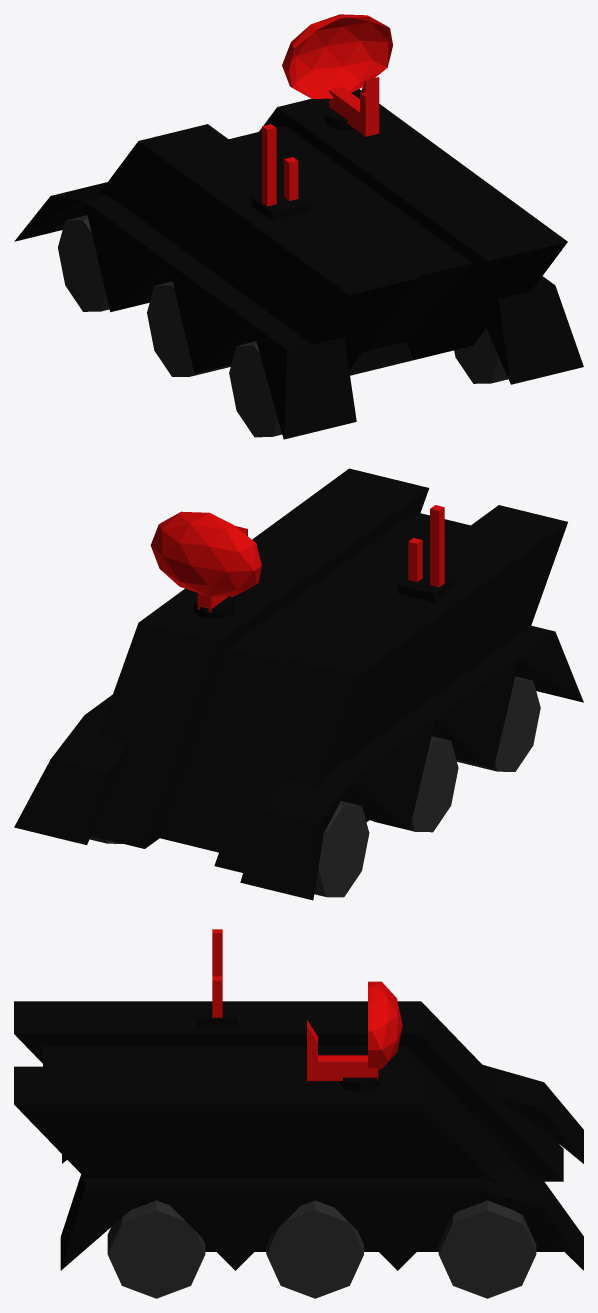
Rendered from tanque_apoyo.fbx.
3 renders of one model, top to bottom at view 1: azimuth 30°, elevation 25°; view 2: azimuth 150°, elevation 25°; view 3: azimuth 270°, elevation 25°, orthographic. The views are drawn at different scales.
Parts seen in each view (by area): view 1: Cuerpo, Cubo.010, Antena, Delante, Cubo.009, Cubo.008, Rueda trasera, Rueda delantera, Rueda medio, Cubo.011, Receptor, Rueda delantera derecha (+3 smaller); view 2: Cuerpo, Cubo.011, Trasero, Antena, Cubo.009, Cubo.008, Rueda trasera, Cubo.010, Rueda medio, Rueda delantera, Cubo.013, Cubo.012 (+2 smaller); view 3: Cuerpo, Medio detrás, Medio delante, Rueda trasera derecha, Rueda delantera derecha, Rueda medio derecha, Delante, Trasero, Cubo.011, Antena, Receptor, Cubo.012 (+2 smaller).
Part boxes in pixels (left/top/right/bottom): Cuerpo: left=82, top=89, right=567, bottom=375; Cubo.010: left=251, top=318, right=356, bottom=439; Antena: left=282, top=14, right=392, bottom=99; Delante: left=483, top=276, right=583, bottom=384; Cubo.009: left=84, top=195, right=191, bottom=312; Cubo.008: left=168, top=257, right=275, bottom=373; Rueda trasera: left=58, top=215, right=109, bottom=311; Rueda delantera: left=229, top=341, right=282, bottom=437; Rueda medio: left=147, top=281, right=230, bottom=376; Cubo.011: left=14, top=182, right=107, bottom=241; Receptor: left=329, top=77, right=379, bottom=136; Rueda delantera derecha: left=454, top=328, right=508, bottom=383; Cuerpo: left=91, top=468, right=567, bottom=872; Cubo.011: left=240, top=775, right=350, bottom=900; Trasero: left=14, top=715, right=131, bottom=845; Antena: left=150, top=511, right=261, bottom=596; Cubo.009: left=327, top=713, right=435, bottom=829; Cubo.008: left=412, top=652, right=519, bottom=768; Rueda trasera: left=314, top=801, right=369, bottom=897; Cubo.010: left=495, top=625, right=583, bottom=702; Rueda medio: left=373, top=736, right=458, bottom=832; Rueda delantera: left=456, top=676, right=540, bottom=771; Cubo.013: left=430, top=505, right=444, bottom=587; Cubo.012: left=397, top=570, right=455, bottom=602; Cuerpo: left=14, top=1001, right=563, bottom=1251; Medio detrás: left=316, top=1178, right=479, bottom=1270; Medio delante: left=154, top=1178, right=316, bottom=1270; Rueda trasera derecha: left=438, top=1200, right=536, bottom=1298; Rueda delantera derecha: left=107, top=1200, right=205, bottom=1298; Rueda medio derecha: left=266, top=1200, right=363, bottom=1298; Delante: left=60, top=1174, right=153, bottom=1270; Trasero: left=479, top=1168, right=583, bottom=1270; Cubo.011: left=483, top=1065, right=583, bottom=1163; Antena: left=368, top=981, right=402, bottom=1069; Receptor: left=307, top=1020, right=378, bottom=1080; Cubo.012: left=197, top=1001, right=237, bottom=1026.
Bounding box in the file's own units: 308 × 286 × 525.
